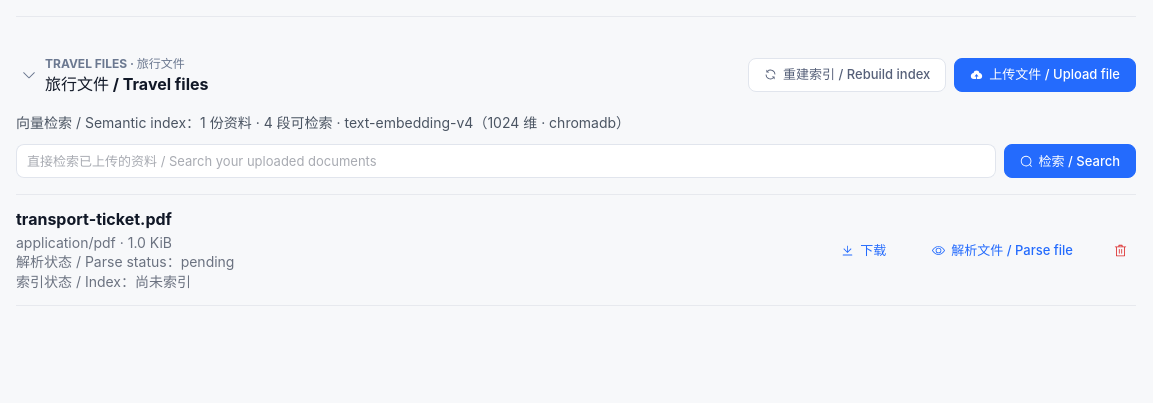
TripFiles › reports why a search found nothing instead of showing an empty list
Type "有资料吗" into the field with placeholder "直接检索已上传的资料 / Search your uploaded documents". click: (506, 161)
box: [27, 146, 985, 176]
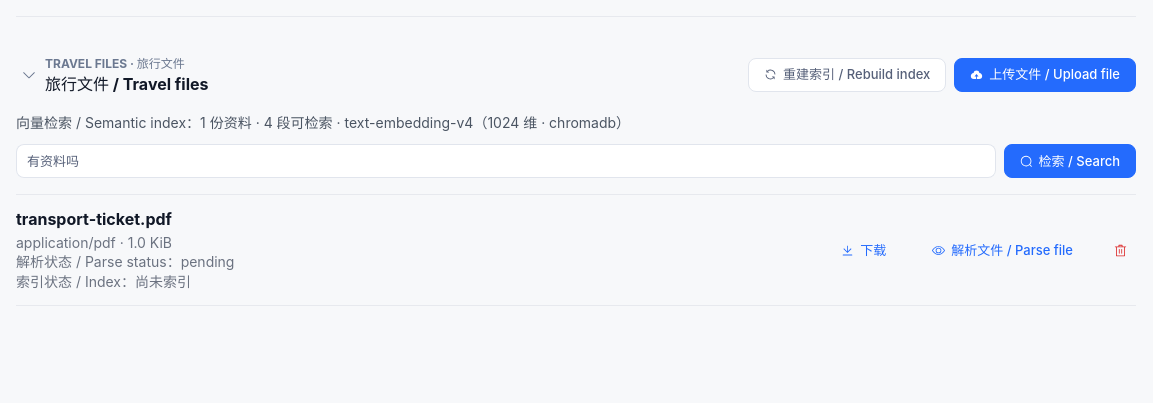
Click the button "检索 / Search". click: (1070, 161)
box: [1004, 144, 1136, 178]
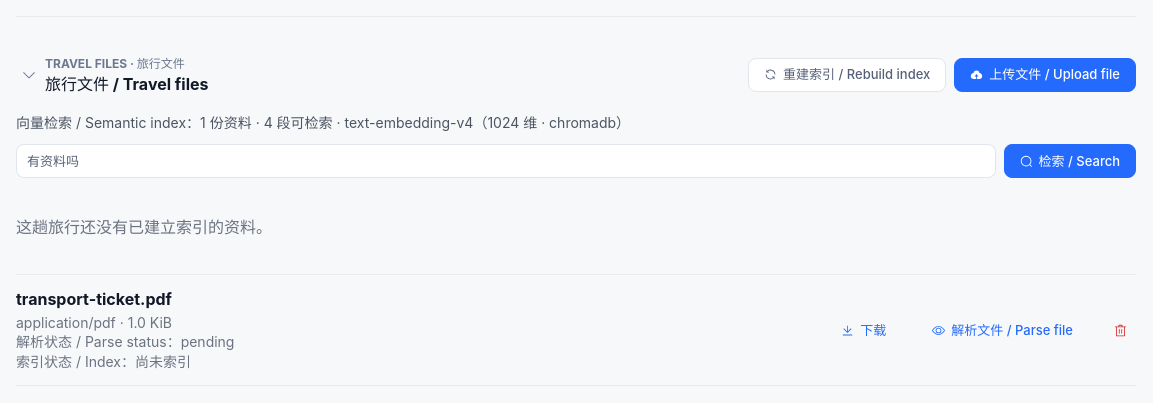
Expected: the text "这趟旅行还没有已建立索引的资料。" is shown, [16, 217, 272, 237]
